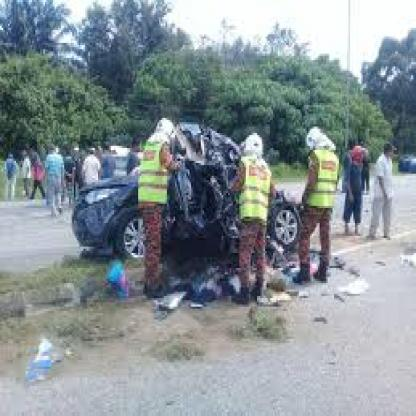accident: (74, 107, 325, 306)
